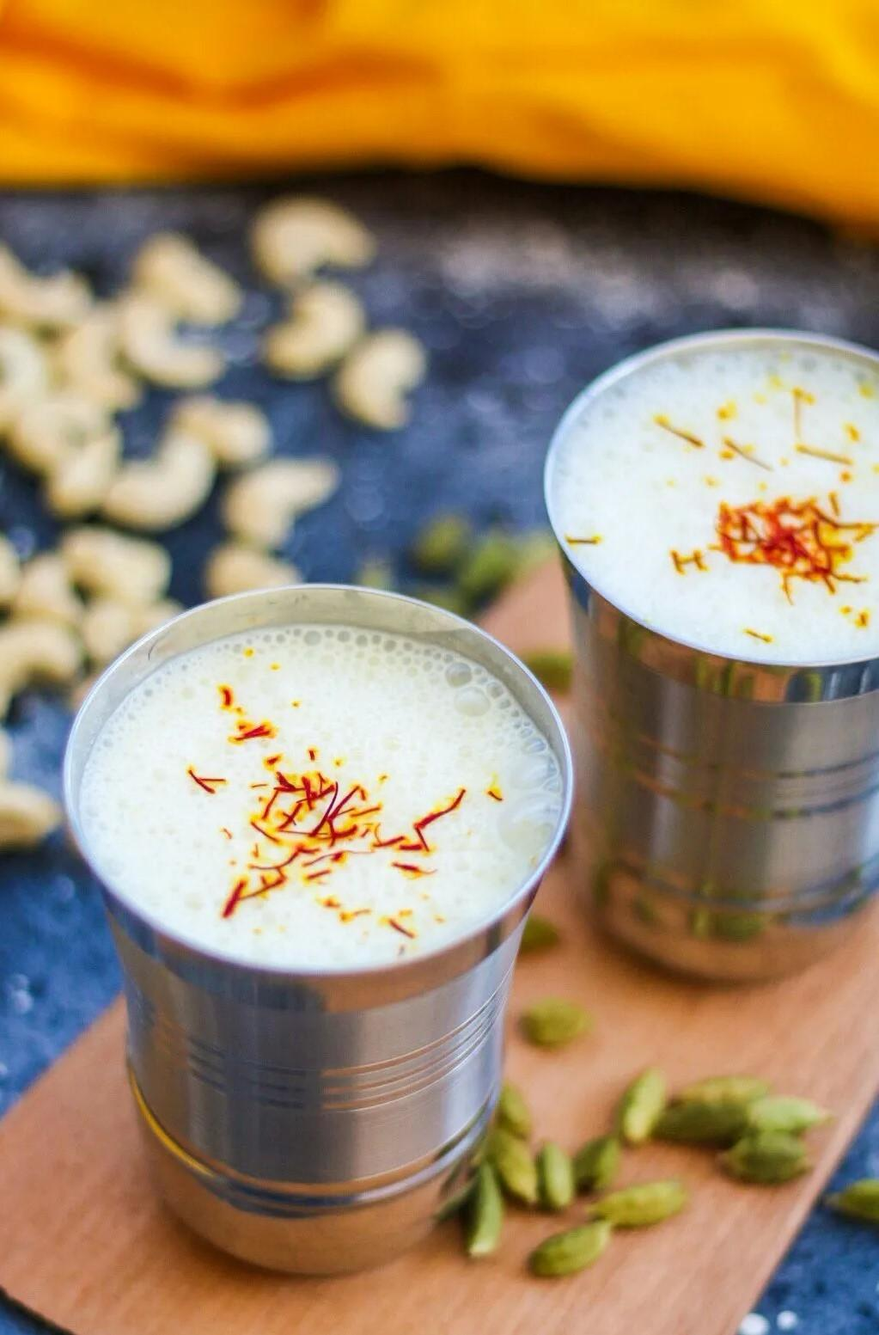Lassi: (75, 619, 555, 969), (551, 342, 879, 661)
